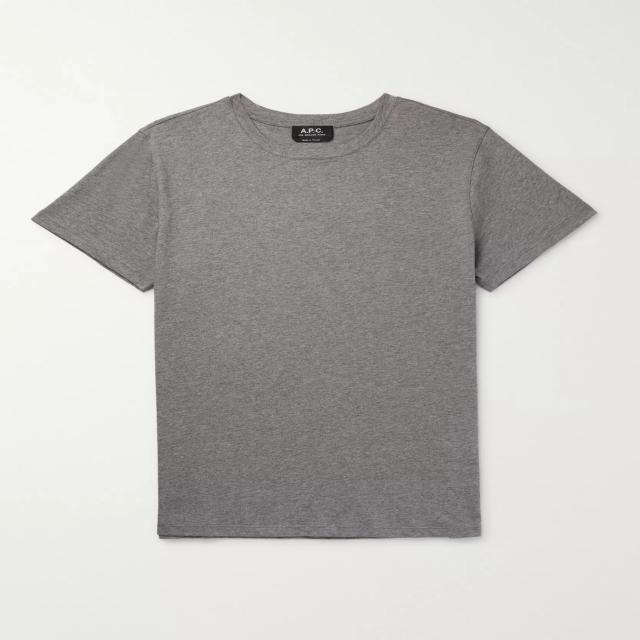tshirt: (29, 92, 594, 539)
